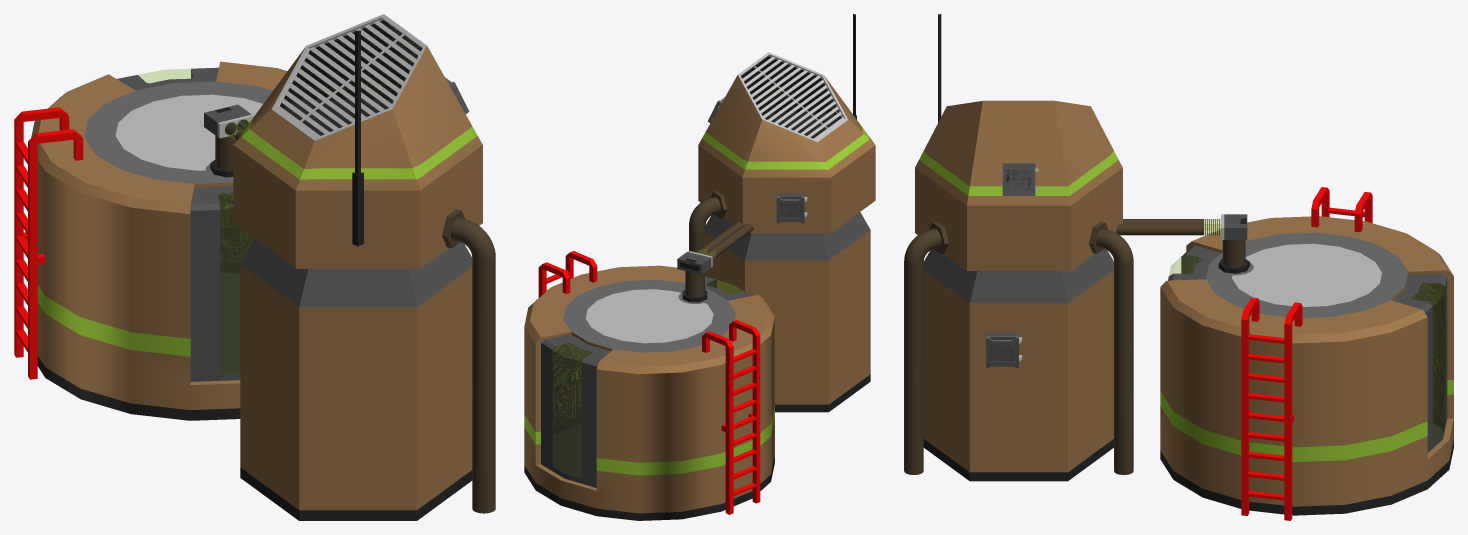
File: TIB-silo.dae
3 renders of one model, left to right at view 1: azimuth 30°, elevation 25°; view 2: azimuth 150°, elevation 25°; view 3: azimuth 270°, elevation 25°, orthographic. The views are drawn at different scales.
Visible parts, largest first — view 1: Tower, silo-tank, Tube, Leader, Tower_hatch, antena; view 2: silo-tank, Tower, Leader (×2), Tower_hatch, Tube, Service_hatch; view 3: silo-tank, Tower, Tube (×2), Leader (×2), Service_hatch (×2).
Part boxes in pixels (x1,y1,x2,y2): Tower: [204, 14, 482, 520]; silo-tank: [31, 61, 287, 420]; Tube: [442, 209, 495, 513]; Leader: [14, 107, 83, 379]; Tower_hatch: [277, 20, 420, 137]; antena: [352, 30, 363, 246]; silo-tank: [524, 265, 774, 520]; Tower: [677, 52, 875, 412]; Leader (×2): [538, 251, 760, 514]; Tower_hatch: [742, 57, 844, 139]; Tube: [689, 191, 727, 276]; Service_hatch: [776, 193, 807, 223]; silo-tank: [1160, 216, 1453, 515]; Tower: [915, 100, 1247, 481]; Tube (×2): [904, 221, 1133, 474]; Leader (×2): [1241, 187, 1372, 520]; Service_hatch (×2): [986, 163, 1038, 367].
Bounding box in the file's own units: 487 × 839 × 693.
